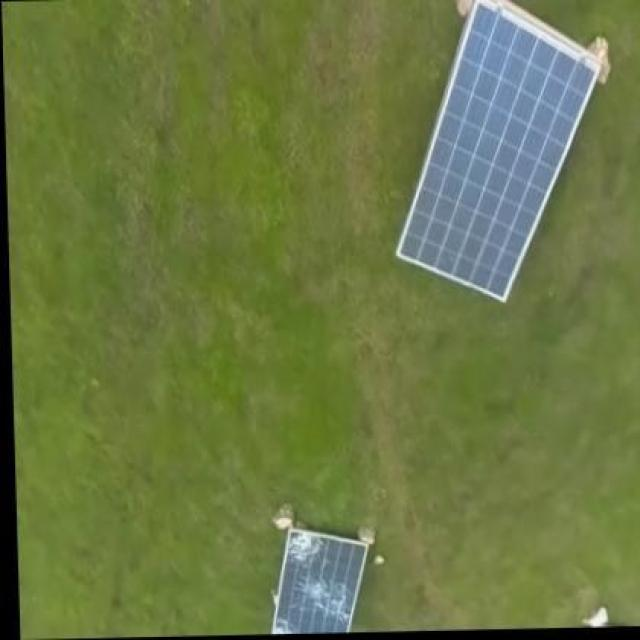cracked: (270, 524, 372, 636)
